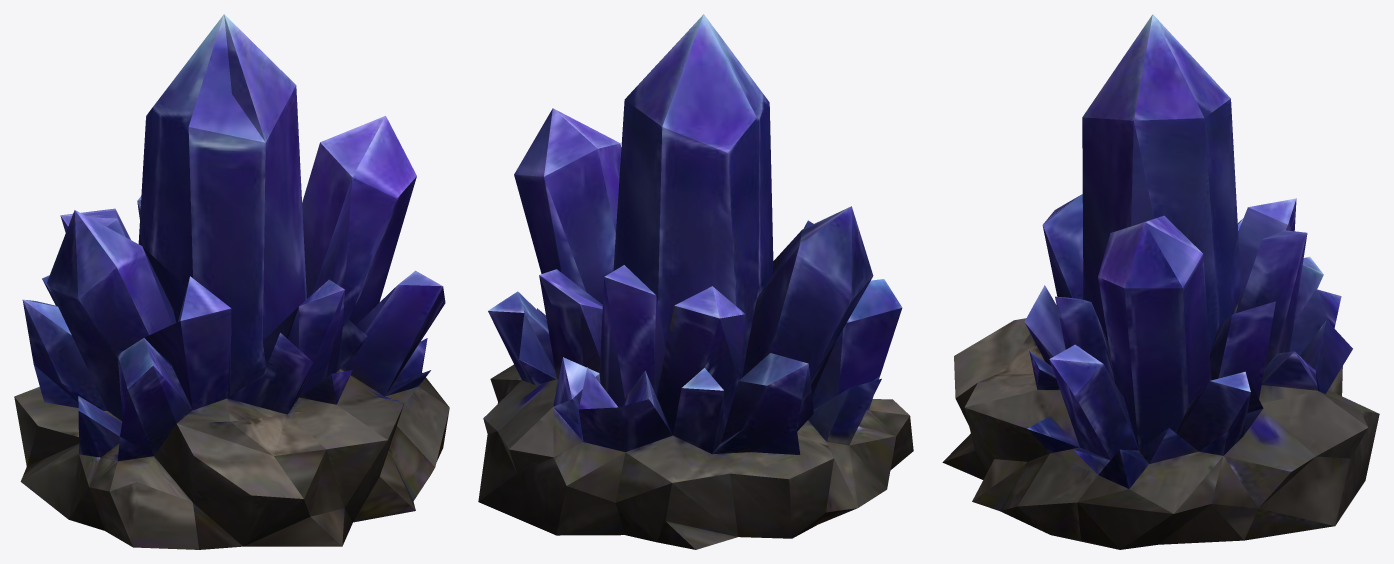
Rendered from crystal.glb.
The picture shows the model from 3 angles, left to right: view 1: azimuth 30°, elevation 25°; view 2: azimuth 150°, elevation 25°; view 3: azimuth 270°, elevation 25°; orthographic projection. The views are drawn at different scales.
Parts seen in each view (by area): view 1: crystal; view 2: crystal; view 3: crystal.
Part boxes in pixels (bbox=[...]): crystal: bbox=[14, 14, 449, 549]; crystal: bbox=[478, 14, 913, 549]; crystal: bbox=[942, 14, 1379, 549].
Bounding box in the file's own units: 0.4397 × 0.5018 × 0.4431.
1 material, 1 textured.
